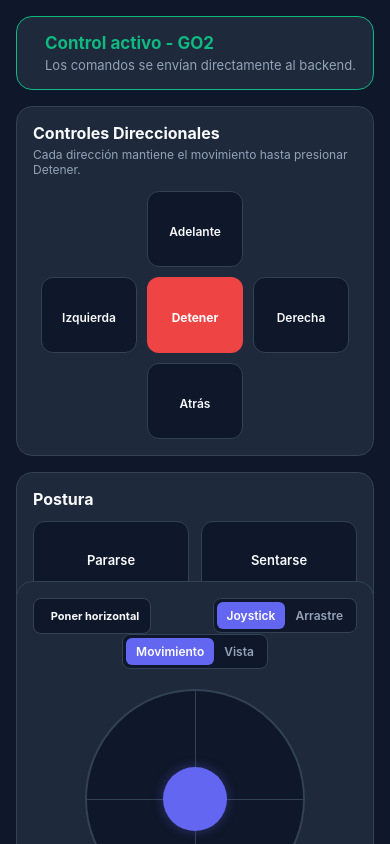
Test: ControlScreen (Control de Movimiento) › debe mostrar el control de orientacion horizontal
Click the element with test id "orientation-toggle".
click(92, 616)  # box [33,598,151,634]
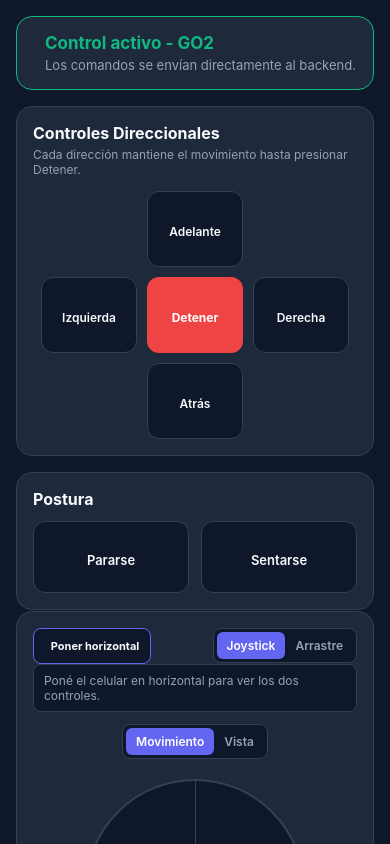
Expected: the text "Poné el celular en horizontal para ver los dos controles." is shown, [44,673,346,703]
